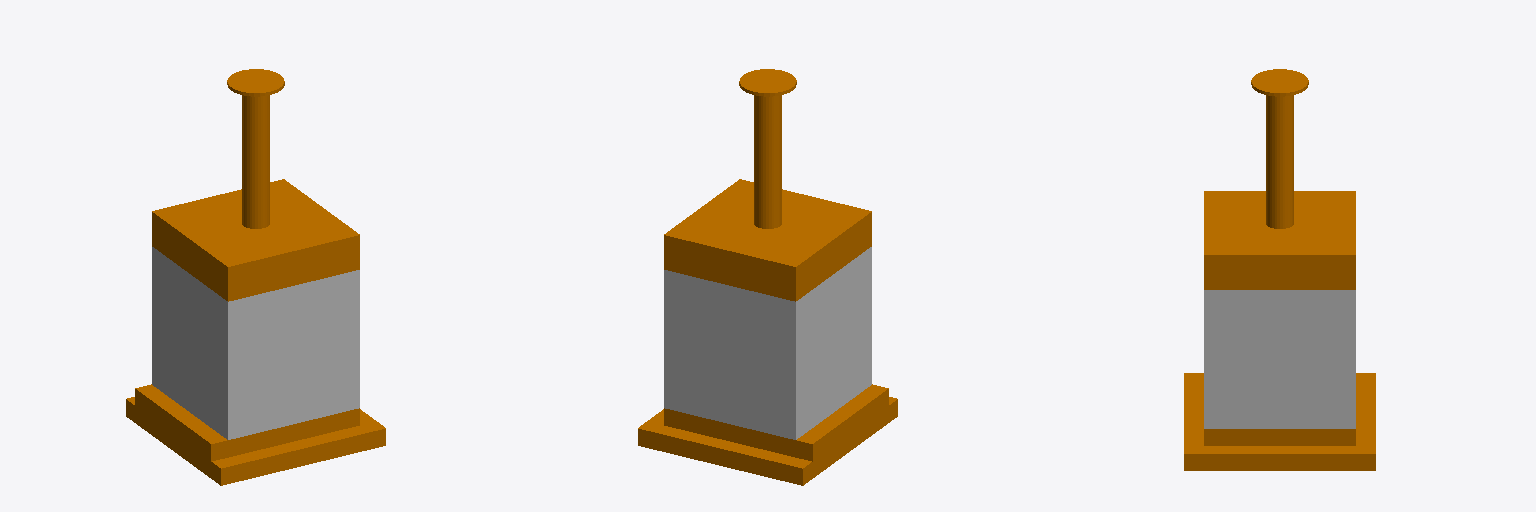
The model's file is Piezo.obj.
3 views of the same model, side by side, from view 1: azimuth 30°, elevation 25°; view 2: azimuth 150°, elevation 25°; view 3: azimuth 270°, elevation 25° (orthographic).
Parts seen in each view (by area): view 1: Cube, Cube.001, Cube.003, Cylinder, Cylinder.001; view 2: Cube, Cube.001, Cube.003, Cylinder, Cylinder.001; view 3: Cube, Cube.001, Cube.003, Cylinder, Cylinder.001.
Part boxes in pixels (left/top/right/bottom): Cube: left=152, top=247, right=359, bottom=439; Cube.001: left=152, top=179, right=359, bottom=301; Cube.003: left=126, top=384, right=385, bottom=485; Cylinder: left=242, top=95, right=269, bottom=228; Cylinder.001: left=227, top=69, right=284, bottom=96; Cube: left=664, top=247, right=871, bottom=439; Cube.001: left=664, top=179, right=871, bottom=301; Cube.003: left=638, top=384, right=897, bottom=485; Cylinder: left=754, top=95, right=781, bottom=228; Cylinder.001: left=739, top=69, right=796, bottom=96; Cube: left=1204, top=290, right=1355, bottom=428; Cube.001: left=1204, top=191, right=1355, bottom=289; Cube.003: left=1184, top=373, right=1375, bottom=470; Cylinder: left=1266, top=95, right=1293, bottom=228; Cylinder.001: left=1251, top=69, right=1308, bottom=96.
Bounding box in the file's own units: 1 × 2.02 × 1.